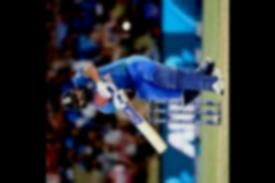batsman: (55, 41, 229, 144)
